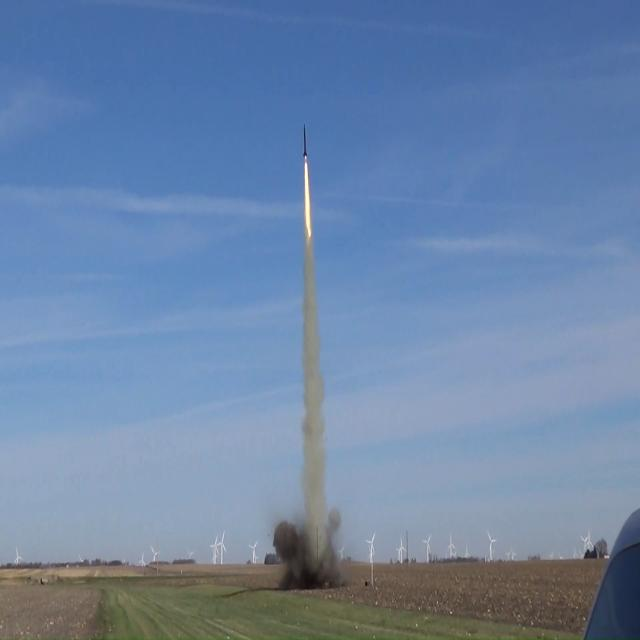Rocket: (303, 124, 307, 160)
